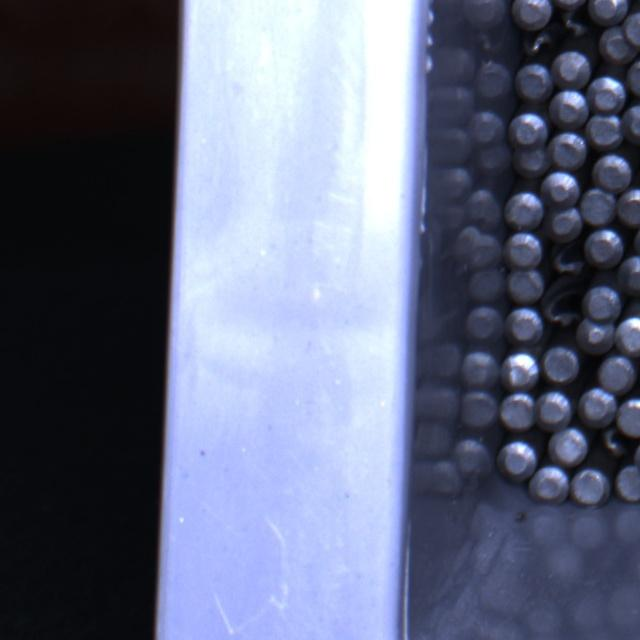tool: (528, 464, 568, 505), (578, 386, 618, 427), (498, 438, 539, 478), (585, 228, 625, 268), (571, 465, 611, 504), (592, 152, 632, 191), (505, 191, 545, 230), (536, 390, 574, 431), (550, 425, 589, 464), (552, 49, 591, 88), (499, 348, 538, 387), (582, 284, 622, 322), (515, 61, 553, 101), (597, 355, 636, 393), (503, 309, 542, 347), (576, 317, 616, 354), (550, 131, 588, 169), (542, 344, 580, 382), (500, 392, 538, 430), (552, 86, 589, 125), (585, 112, 622, 150), (508, 111, 548, 146), (582, 187, 618, 225), (503, 230, 541, 266), (513, 141, 551, 177), (590, 76, 627, 112), (507, 268, 544, 304), (546, 204, 582, 240), (544, 170, 579, 205), (600, 26, 632, 64), (512, 0, 553, 29), (615, 316, 640, 356), (616, 187, 640, 227), (588, 0, 628, 24), (615, 462, 640, 500), (617, 396, 640, 436), (619, 255, 640, 296), (623, 102, 640, 145), (626, 8, 640, 51), (627, 54, 640, 96)
tool_b: (541, 278, 582, 332), (548, 243, 585, 279), (553, 6, 591, 40), (595, 428, 630, 462), (524, 25, 557, 55)
